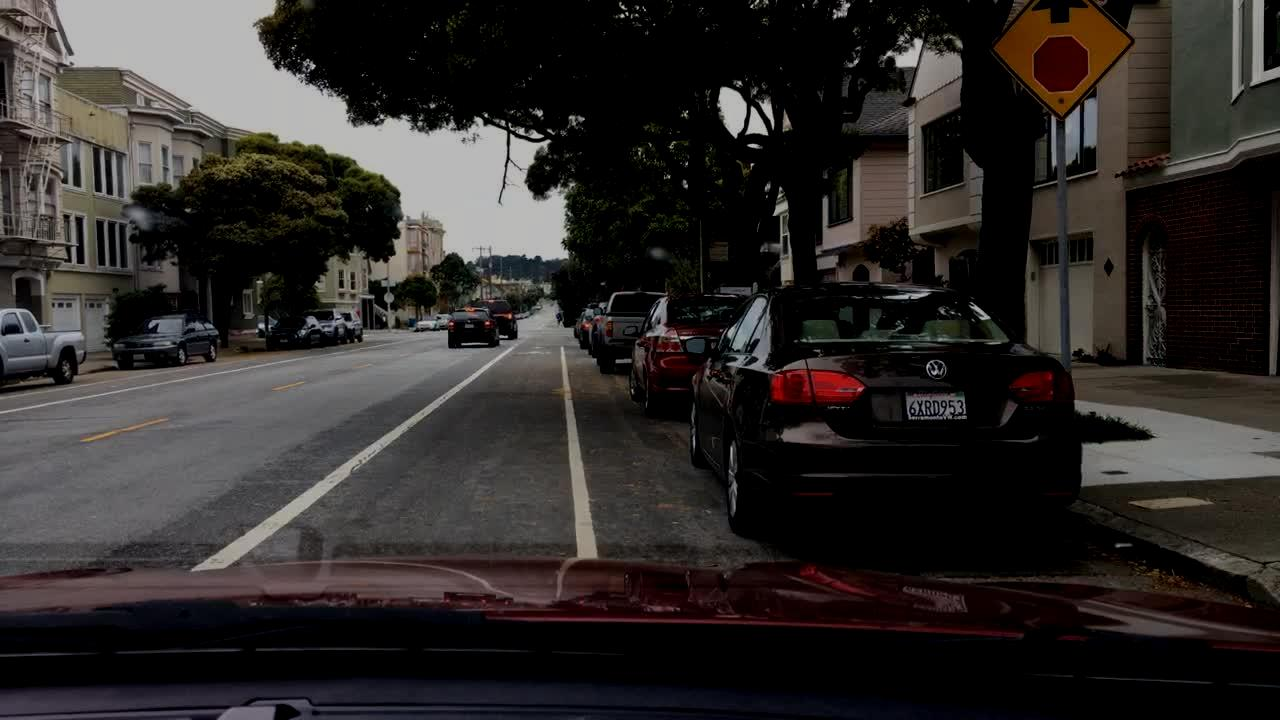Volkswagen: (922, 353, 952, 383)
